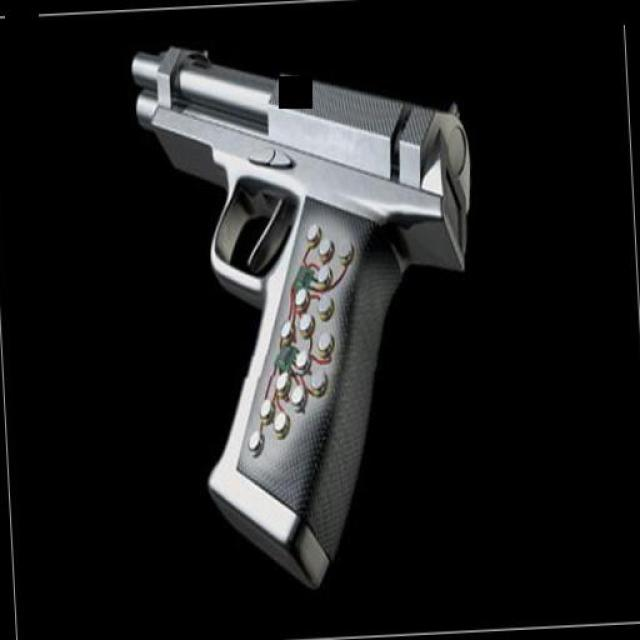gun: (122, 25, 492, 595)
